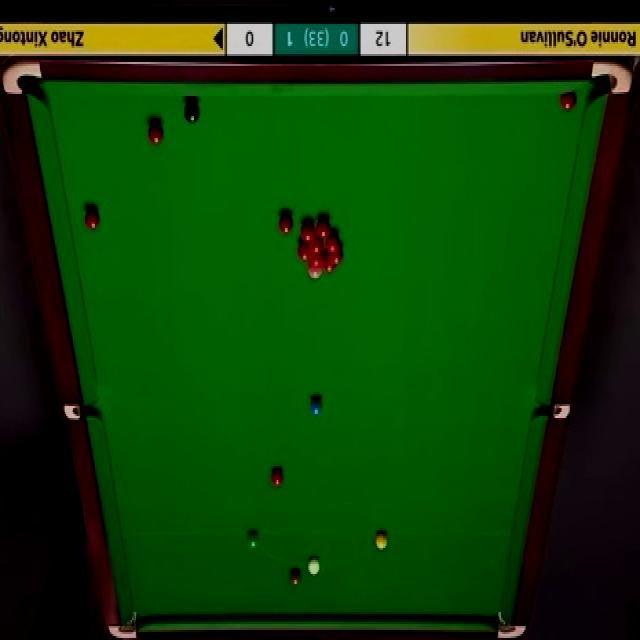pocket: (589, 55, 633, 97), (4, 60, 42, 97), (109, 611, 139, 640), (495, 612, 526, 640), (65, 403, 100, 422), (536, 403, 570, 419)
